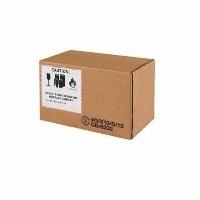undamaged: (35, 44, 156, 143)
